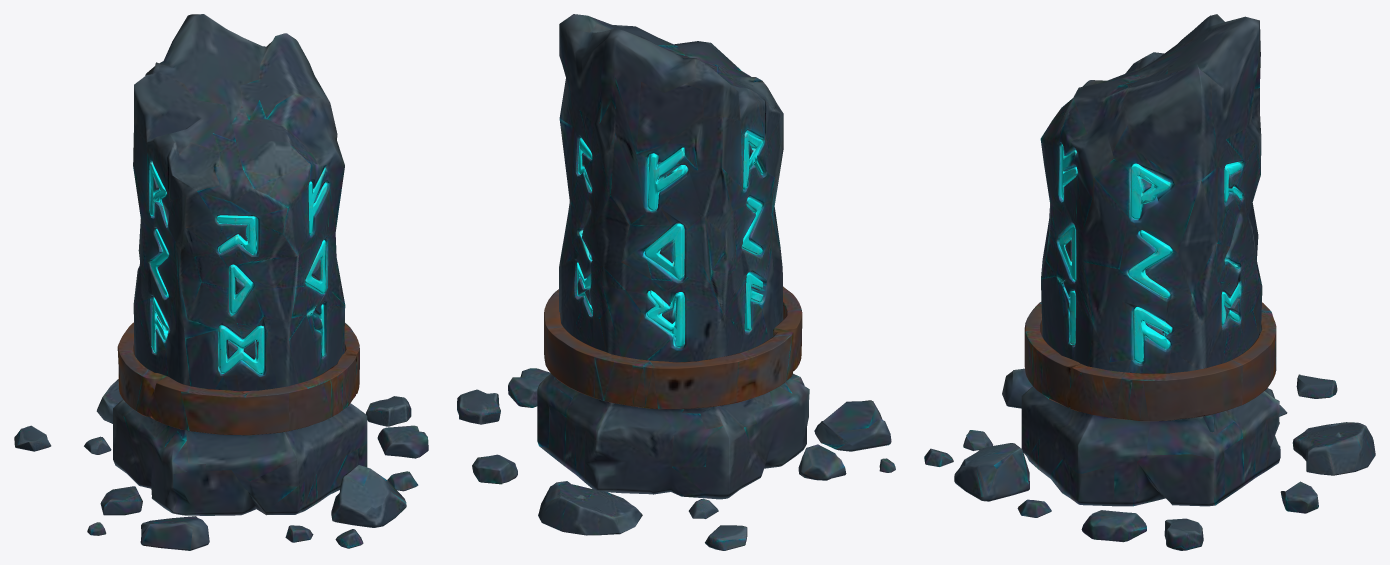
File: pillar_stump.glb
3 views of the same model, side by side, from view 1: azimuth 30°, elevation 25°; view 2: azimuth 150°, elevation 25°; view 3: azimuth 270°, elevation 25° (orthographic). The views are drawn at different scales.
Visible parts, largest first — view 1: geometry_0; view 2: geometry_0; view 3: geometry_0.
Part boxes in pixels (x1,y1,x2,y2): geometry_0: (14, 14, 428, 550); geometry_0: (457, 14, 895, 550); geometry_0: (924, 14, 1375, 550).
Bounding box in the file's own units: 0.8608 × 0.9502 × 0.8794.
Materials: 1 (1 with a texture image).
